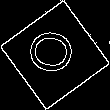O_E: (26, 30, 84, 80)
